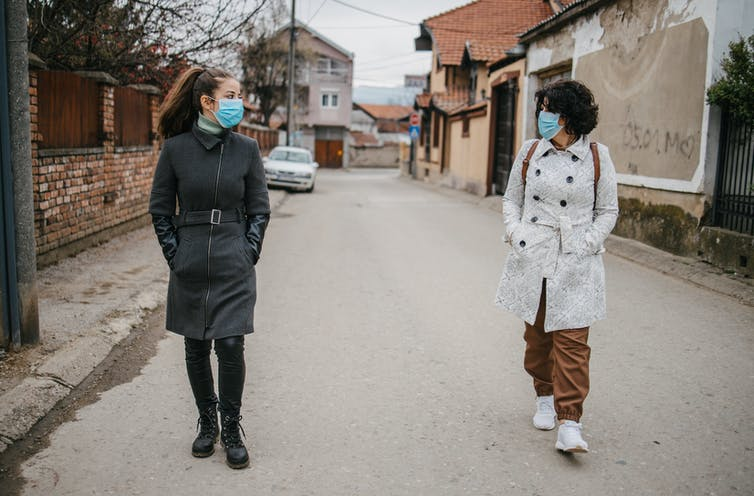with_mask: (213, 84, 246, 129), (536, 100, 567, 141)
